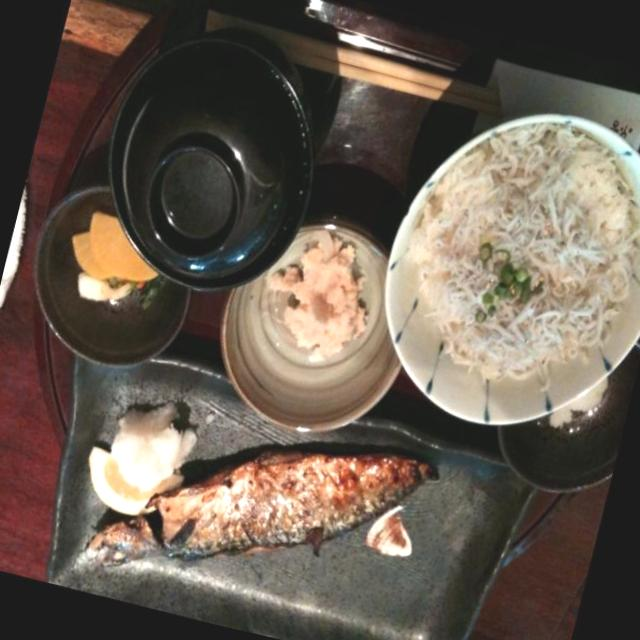Rice: (339, 58, 640, 456)
